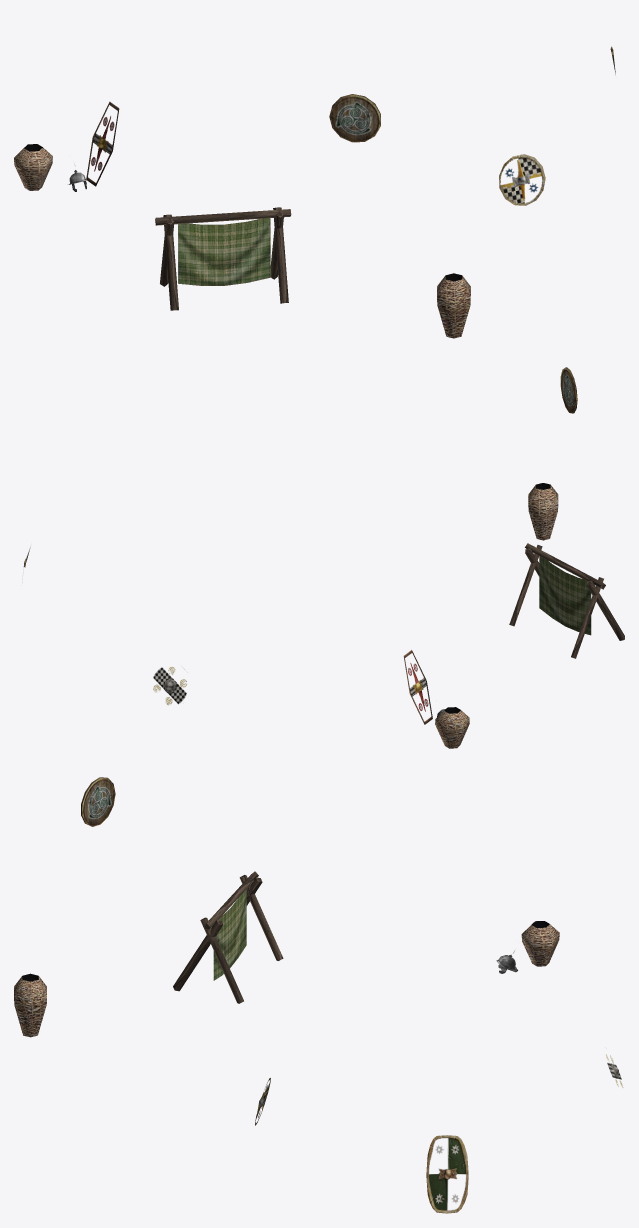
File: celt_market2_props_new.glb
3 views of the same model, one above another, from view 1: azimuth 30°, elevation 25°; view 2: azimuth 150°, elevation 25°; view 3: azimuth 270°, elevation 25° (orthographic). The views are drawn at different scales.
Parts seen in each view (by area): view 1: celt_coolus_feathers003; view 2: celt_coolus_feathers003; view 3: celt_coolus_feathers003.
Part boxes in pixels (x1,y1,x2,y2): celt_coolus_feathers003: (14, 46, 615, 338); celt_coolus_feathers003: (23, 367, 624, 748); celt_coolus_feathers003: (14, 777, 623, 1213).
Size of the model in its own units: 21.23 by 8.46 by 20.36.
1 material, 1 textured.
